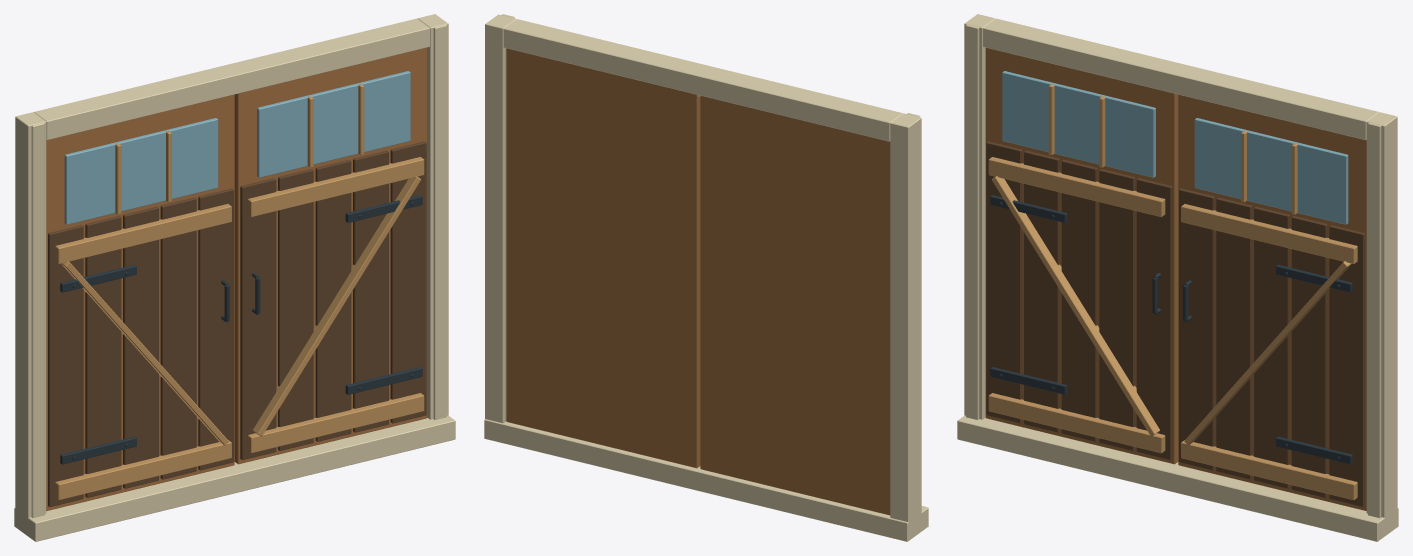
The model's file is b12_carriage_house_garage_doors.glb.
The picture shows the model from 3 angles, left to right: view 1: azimuth 30°, elevation 25°; view 2: azimuth 150°, elevation 25°; view 3: azimuth 330°, elevation 25°; orthographic projection.
Parts seen in each view (by area): view 1: b12_carriage_house_garage_doors; view 2: b12_carriage_house_garage_doors; view 3: b12_carriage_house_garage_doors.
Part boxes in pixels (x1=…): b12_carriage_house_garage_doors: x1=14, y1=14, x2=455, y2=541; b12_carriage_house_garage_doors: x1=484, y1=14, x2=928, y2=541; b12_carriage_house_garage_doors: x1=957, y1=14, x2=1398, y2=541.
Size of the model in its own units: 2.74 by 2.56 by 0.24.
